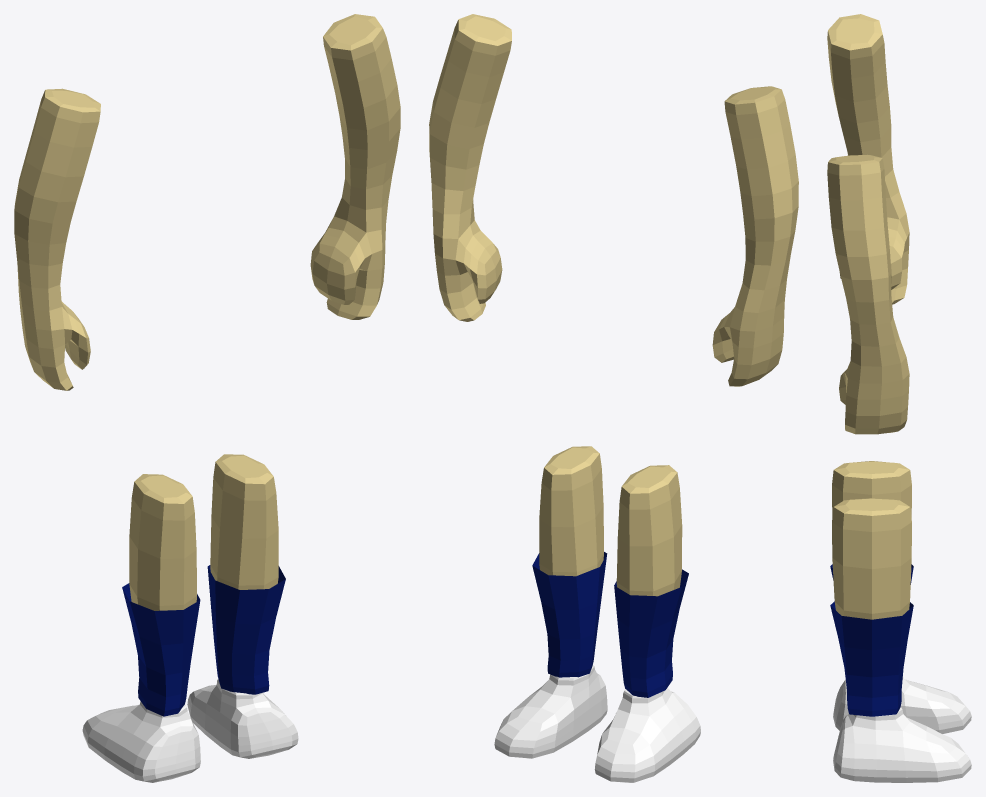
The model's file is limbs.glb.
The picture shows the model from 3 angles, left to right: view 1: azimuth 30°, elevation 25°; view 2: azimuth 150°, elevation 25°; view 3: azimuth 270°, elevation 25°; orthographic projection. The views are drawn at different scales.
Parts seen in each view (by area): view 1: Plane.008, Plane.001, Plane.018, Plane.014, Plane.019, Plane.017, Plane.021, Plane.015; view 2: Plane.008, Plane.001, Plane.018, Plane.014, Plane.019, Plane.015, Plane.017, Plane.021; view 3: Plane.008, Plane.001, Plane.014, Plane.015, Plane.017, Plane.019, Plane.018.
Boxes of the visible parts, x1,y1,x2,y2 form: Plane.008: (310,14,400,319); Plane.001: (14,88,100,390); Plane.018: (129,474,196,610); Plane.014: (210,454,278,589); Plane.019: (82,701,200,782); Plane.017: (207,565,285,694); Plane.021: (122,583,200,716); Plane.015: (187,679,298,758); Plane.008: (429,14,511,321); Plane.001: (712,86,798,386); Plane.018: (616,465,682,596); Plane.014: (539,446,603,576); Plane.019: (594,687,700,782); Plane.015: (494,665,607,758); Plane.017: (532,552,607,677); Plane.021: (614,569,688,697); Plane.008: (827,154,909,434); Plane.001: (827,14,909,304); Plane.014: (832,498,911,619); Plane.015: (833,707,971,782); Plane.017: (830,601,913,716); Plane.019: (833,676,971,733); Plane.018: (832,461,911,517).
Size of the model in its own units: 1.71 by 3.05 by 0.603.
